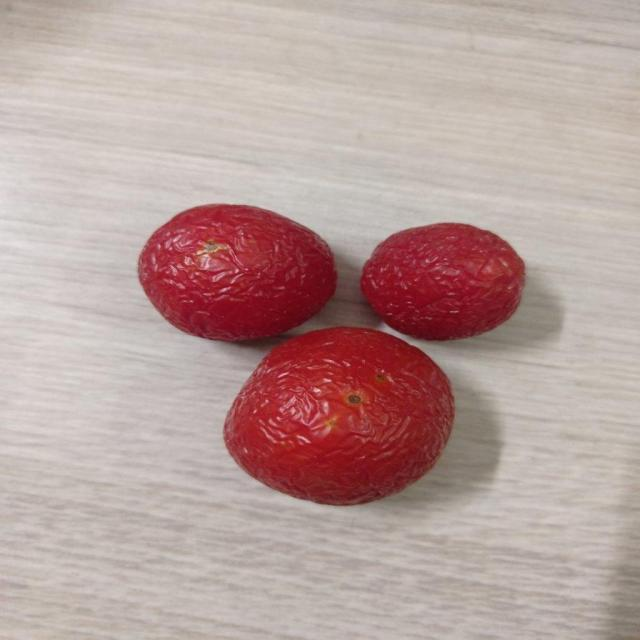overripe: (225, 329, 461, 506), (131, 202, 336, 342), (364, 221, 528, 339)
